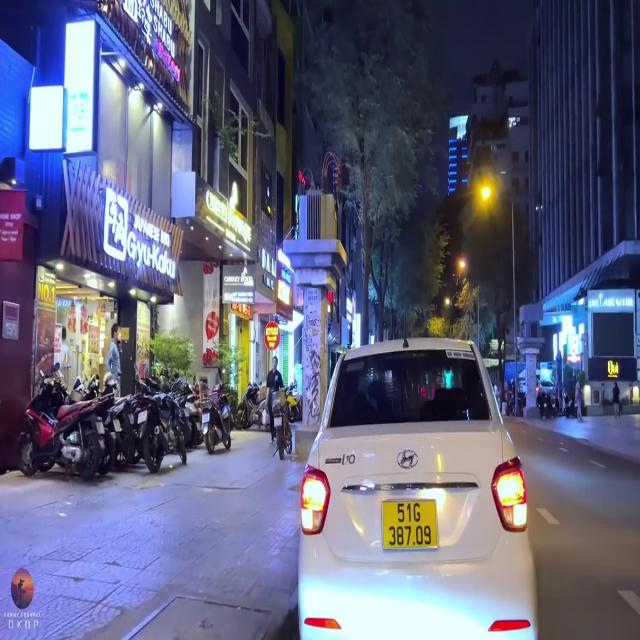bien_vang: (381, 500, 437, 550)
